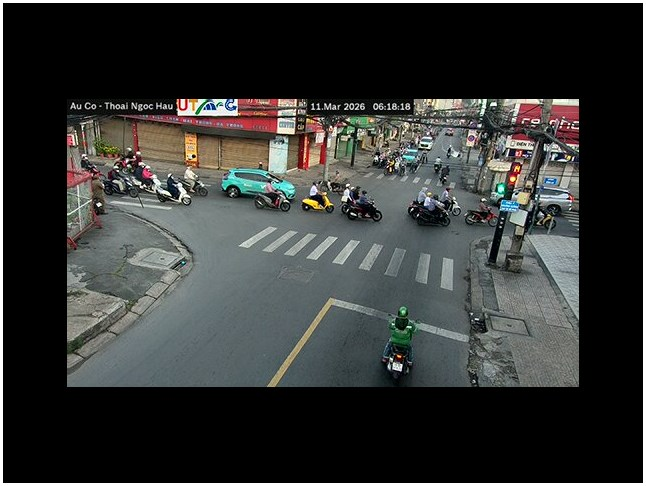car: (221, 168, 296, 211), (536, 187, 576, 214)
motorbike: (380, 306, 417, 384), (407, 195, 451, 227), (153, 172, 192, 204), (343, 195, 382, 221), (301, 186, 334, 213), (465, 200, 494, 226)
